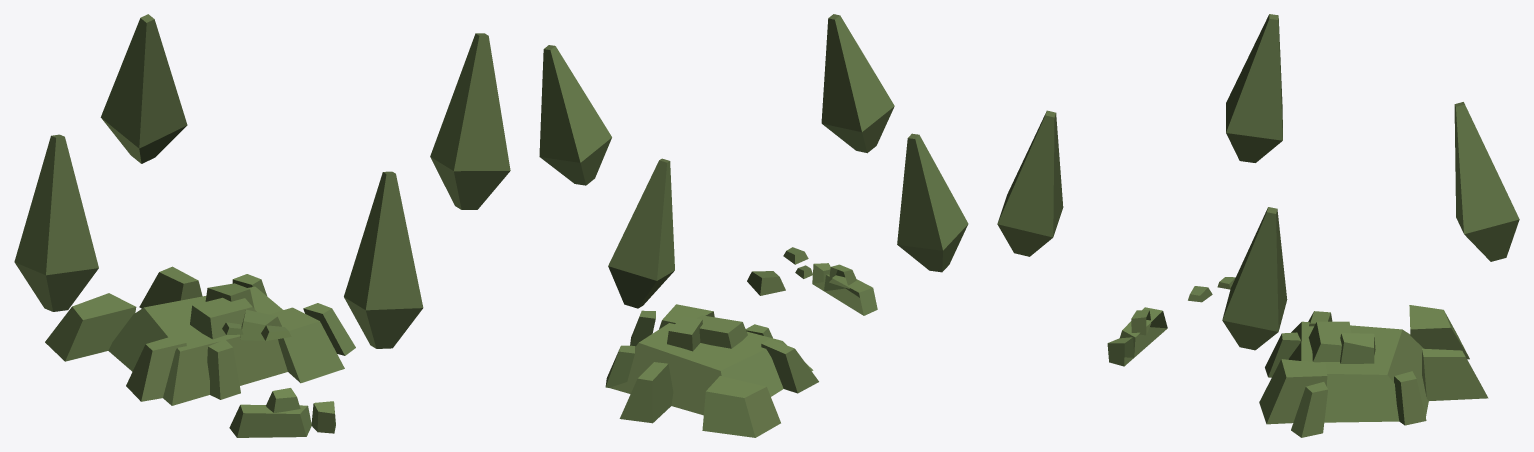
The model's file is SA_Bld_HospitalFountain_Growth_01.gltf.
3 renders of one model, left to right at view 1: azimuth 30°, elevation 25°; view 2: azimuth 150°, elevation 25°; view 3: azimuth 270°, elevation 25°, orthographic. The views are drawn at different scales.
Parts seen in each view (by area): view 1: SA_Bld_HospitalFountain_Growth_01; view 2: SA_Bld_HospitalFountain_Growth_01; view 3: SA_Bld_HospitalFountain_Growth_01.
Part boxes in pixels (left/top/right/bottom): SA_Bld_HospitalFountain_Growth_01: left=14, top=14, right=510, bottom=437; SA_Bld_HospitalFountain_Growth_01: left=539, top=14, right=968, bottom=437; SA_Bld_HospitalFountain_Growth_01: left=997, top=14, right=1519, bottom=437.
Bounding box in the file's own units: 21.73 × 13.24 × 22.41.
1 material, 1 textured.
